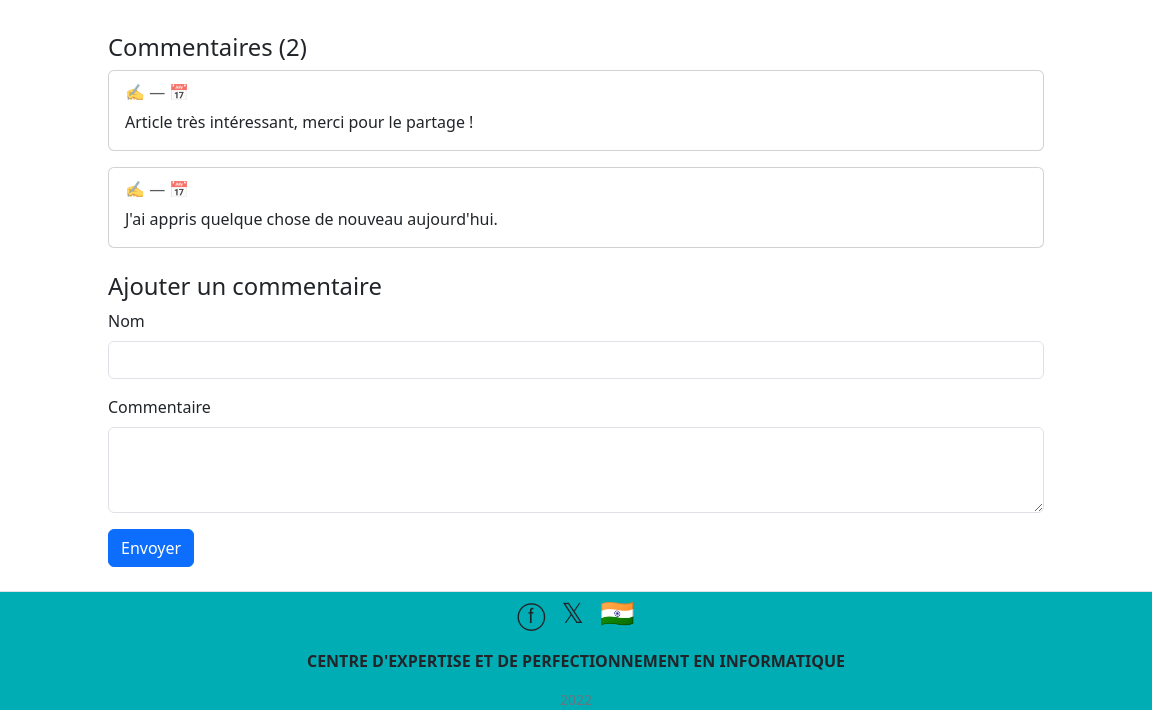
Test: AddComment › peut soumettre un commentaire
The image size is (1152, 720).
(page scrolled)
Type "Test auteur" into the field at (576, 360), box 108,341 -> 1044,379
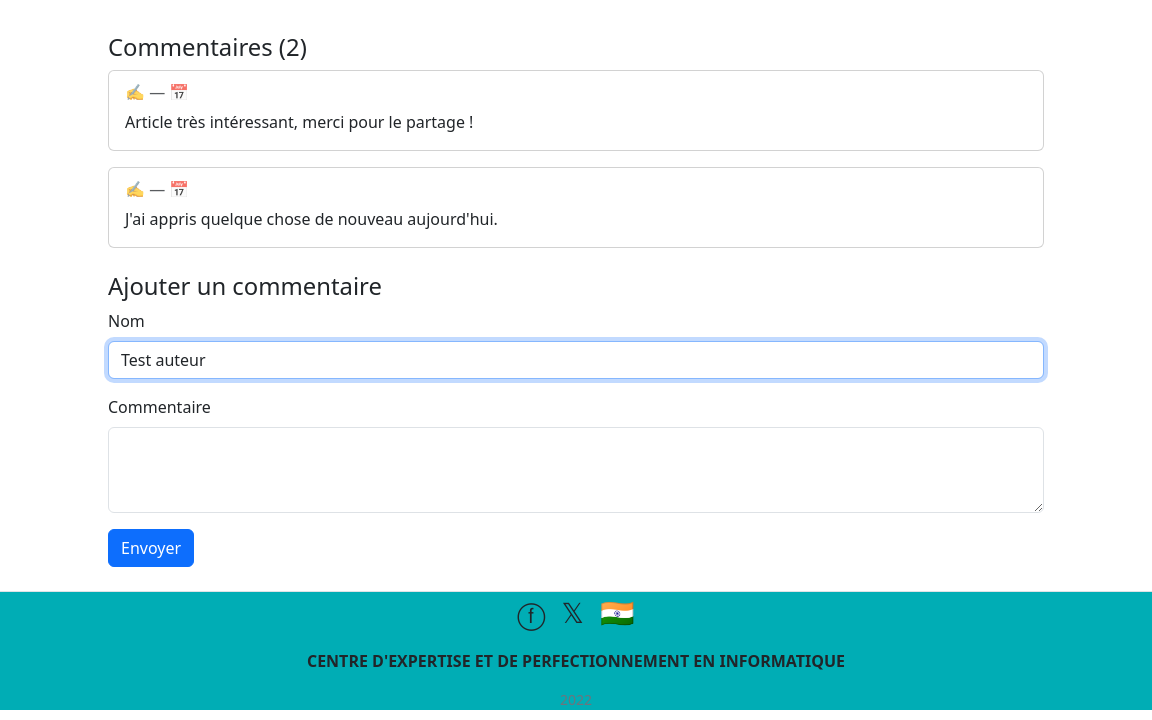
Type "Test commentaire" into the text box at (576, 470), box 108,427 -> 1044,513
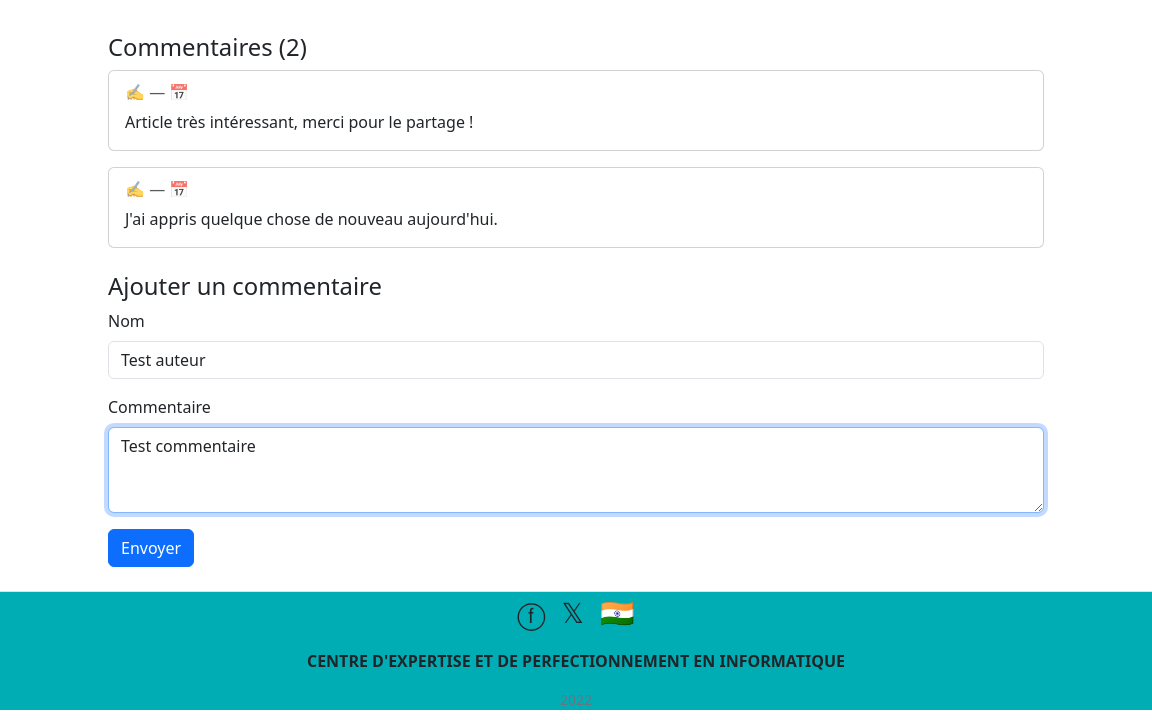
Click the submit button at (151, 548), box 108,529 -> 194,567
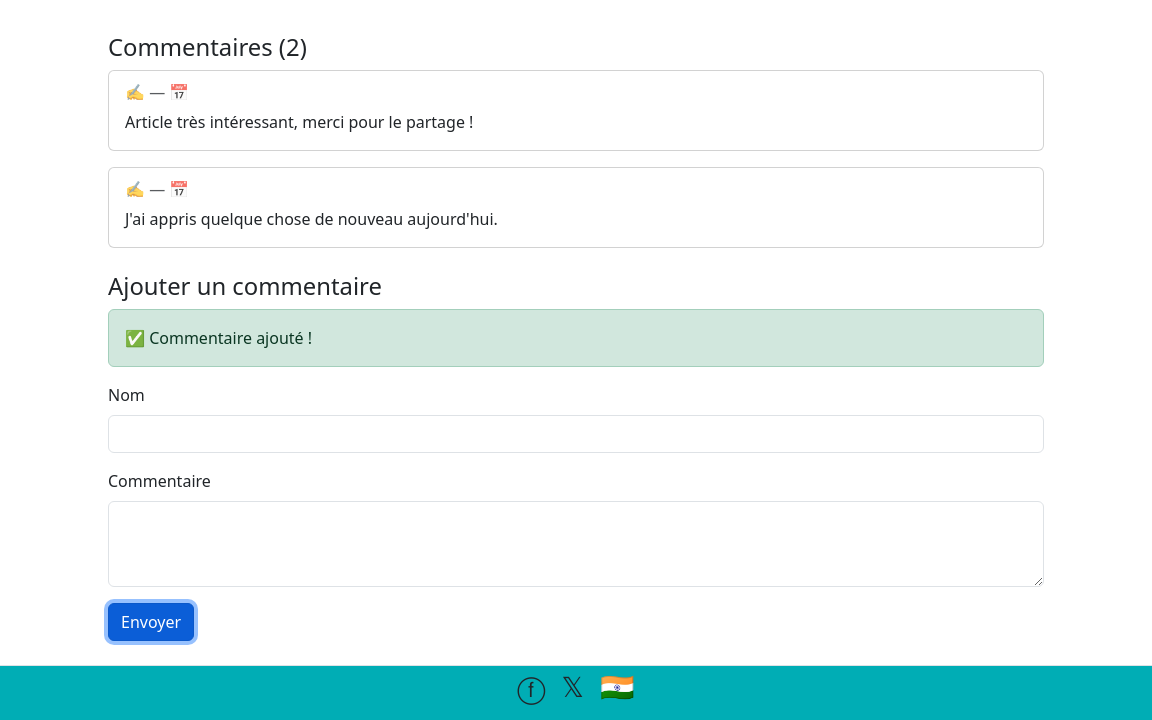
Expected: the text "✅ Commentaire ajouté !" is shown, 108,308 -> 1044,366
